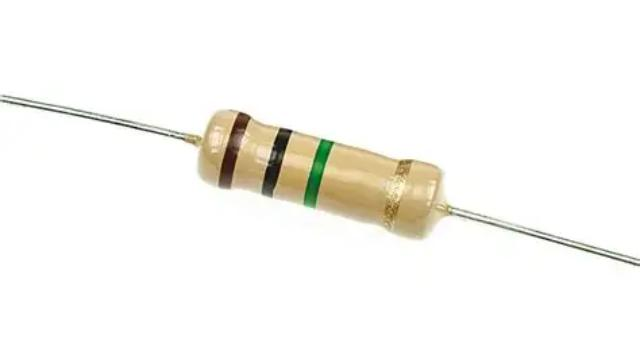black: (260, 126, 292, 198)
brown: (218, 112, 251, 190)
gold: (193, 106, 451, 242), (380, 160, 414, 233)
green: (302, 138, 334, 209)
